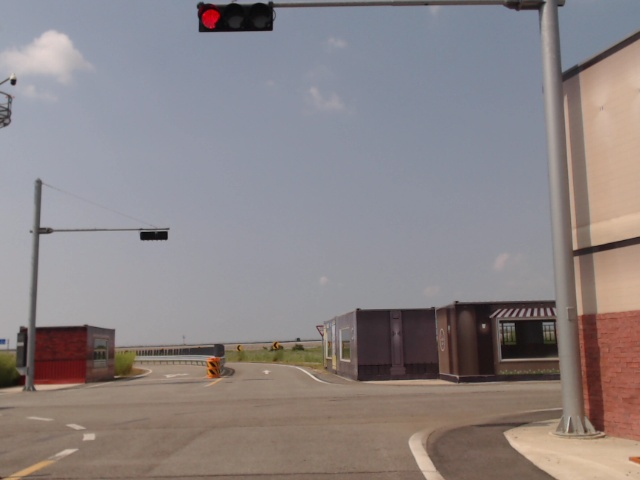red_3: (200, 5, 272, 32)
